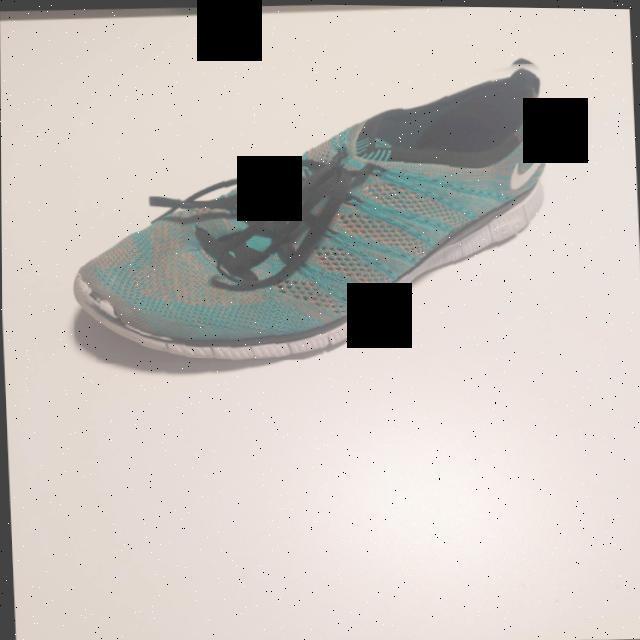shoe: (62, 46, 554, 369)
